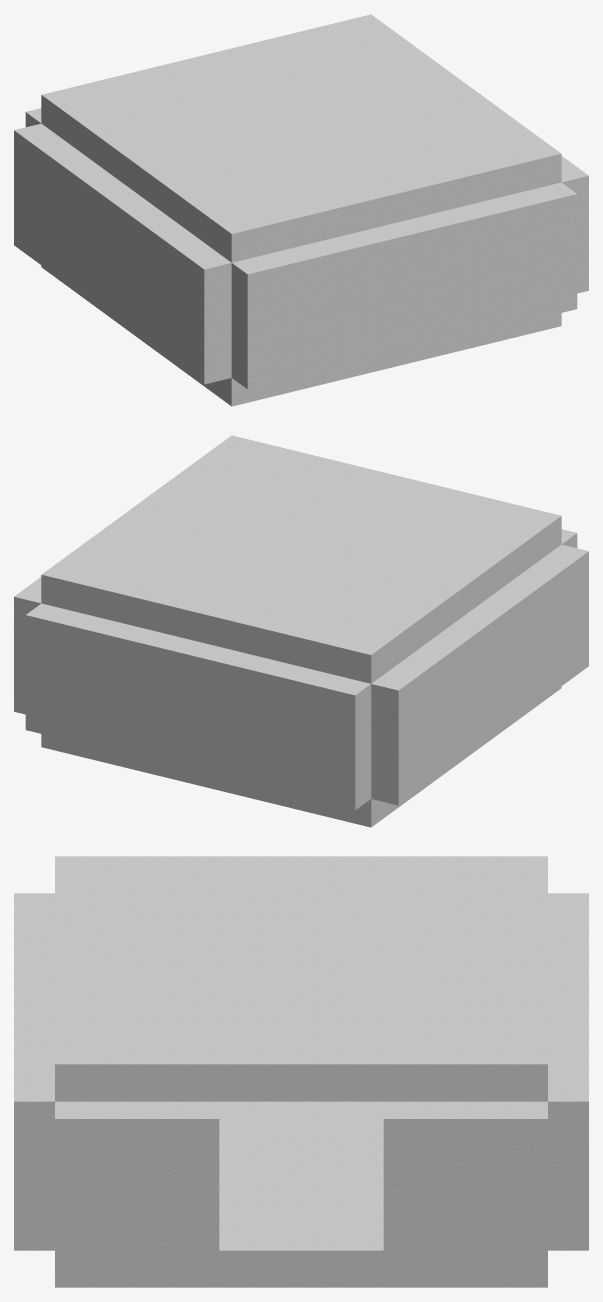
File: BlastShieldRoom.obj
3 views of the same model, one above another, from view 1: azimuth 30°, elevation 25°; view 2: azimuth 150°, elevation 25°; view 3: azimuth 270°, elevation 25° (orthographic). The views are drawn at different scales.
Visible parts, largest first — view 1: Cube (19), Cube (22), Cube (21), Cube (16), Cube (24); view 2: Cube (19), Cube (20), Cube (21), Cube (16), Cube (23); view 3: Cube (19), Cube (16), Cube (23), Cube (24), Cube (20), Cube (22).
Boxes of the visible parts, x1,y1,x2,y2 form: Cube (19): (41,14,561,262); Cube (22): (231,182,577,389); Cube (21): (14,123,231,384); Cube (16): (41,265,561,406); Cube (24): (561,156,588,293); Cube (19): (41,435,561,683); Cube (20): (25,603,371,810); Cube (21): (371,544,588,805); Cube (16): (41,686,561,827); Cube (23): (14,577,41,714); Cube (19): (55,856,547,1101); Cube (16): (55,1101,547,1287); Cube (23): (383,1101,547,1267); Cube (24): (55,1101,219,1267); Cube (20): (548,893,588,1250); Cube (22): (14,893,54,1250).
Bounding box in the file's own units: 14 × 6 × 14.
Materials: 1 (1 with a texture image).
